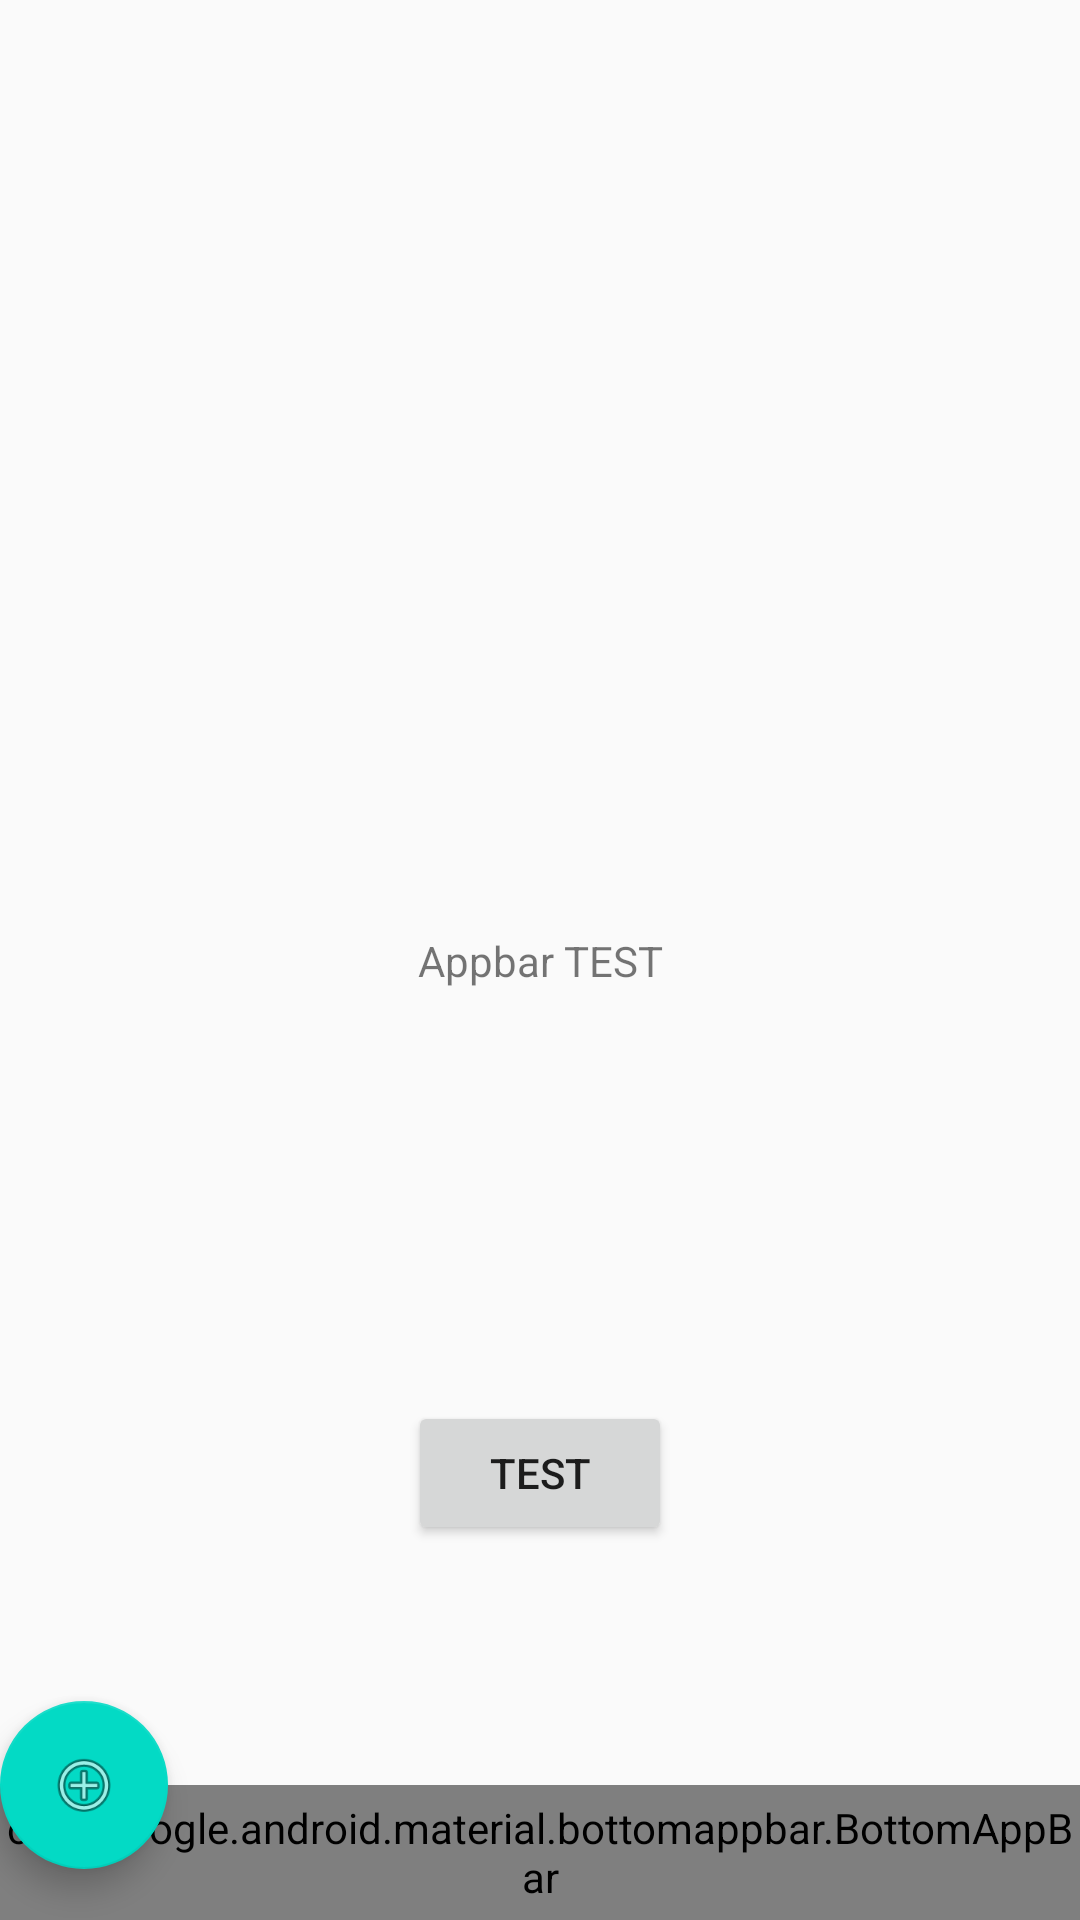

Where to tap for icons on this 1080×1920 app screen, as (x,y):
add: (84,1785)
